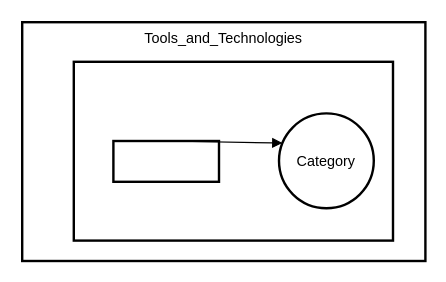
This 446x282 diagram has some shape labels left out. The shapes that lost their labels are listed below. From the top down, each one's box as (x1, y1, x2, y2) in pixels, then its label:
(112, 139, 220, 182): WordPress
(72, 60, 394, 241): Website Builder
